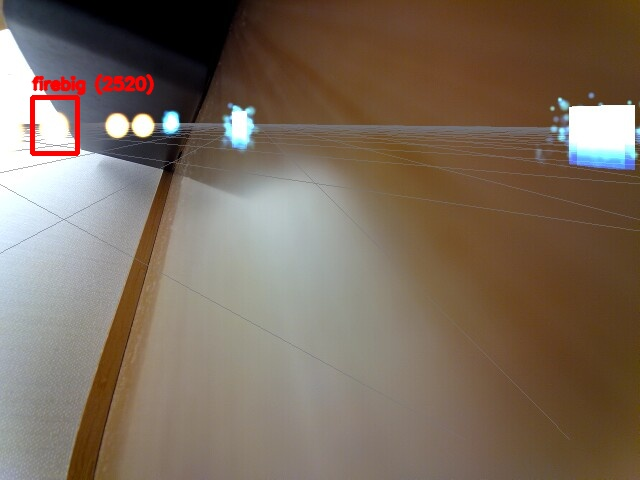firebig: (32, 97, 77, 153)
